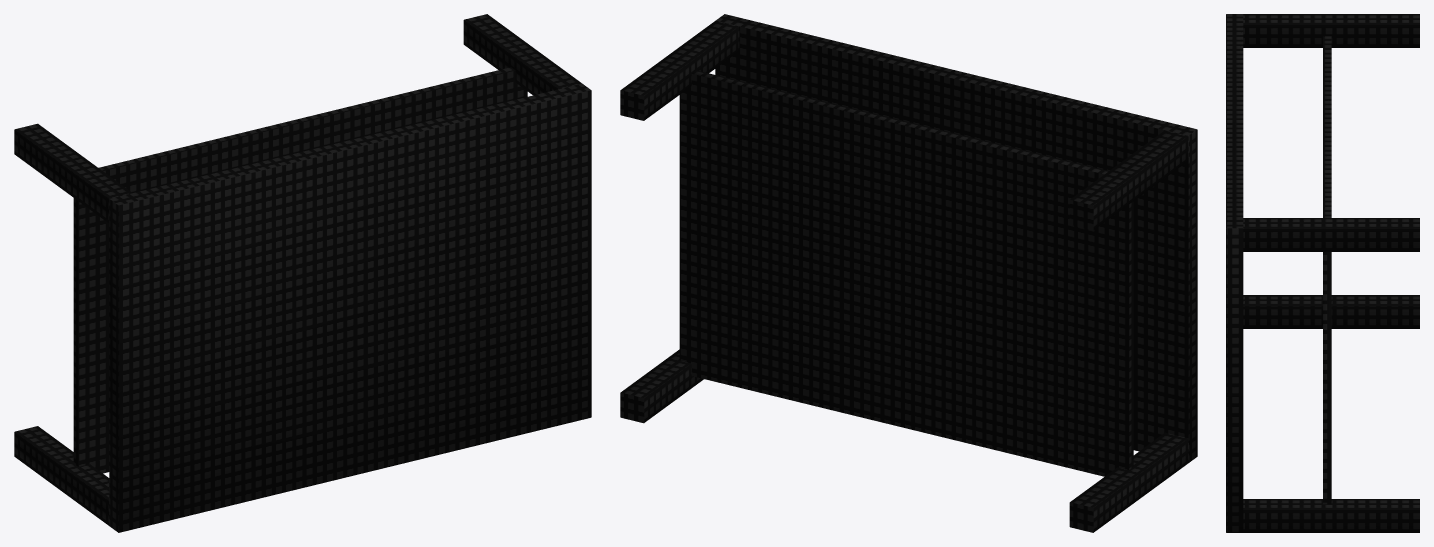
The model's file is coffee_table-fhqimf-0.obj.
3 renders of one model, left to right at view 1: azimuth 30°, elevation 25°; view 2: azimuth 150°, elevation 25°; view 3: azimuth 270°, elevation 25°, orthographic. The views are drawn at different scales.
Bounding box in the file's own units: 1.18 × 0.78 × 0.45.
1 material, 1 textured.
